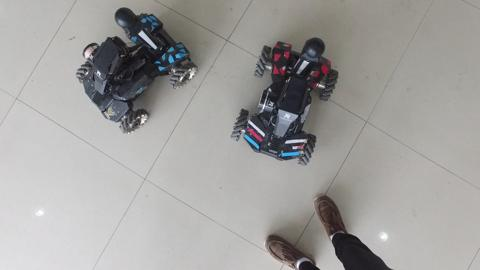chariot: (71, 5, 204, 136), (226, 30, 341, 170)
